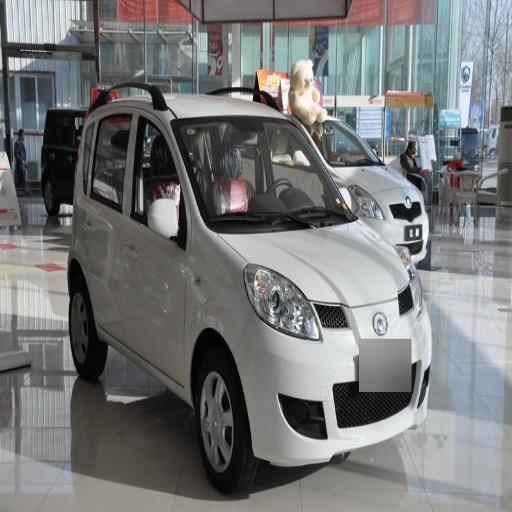front_bumper: (232, 287, 432, 461)
front_right_door: (118, 109, 184, 380)
front_right_light: (244, 264, 323, 339)
